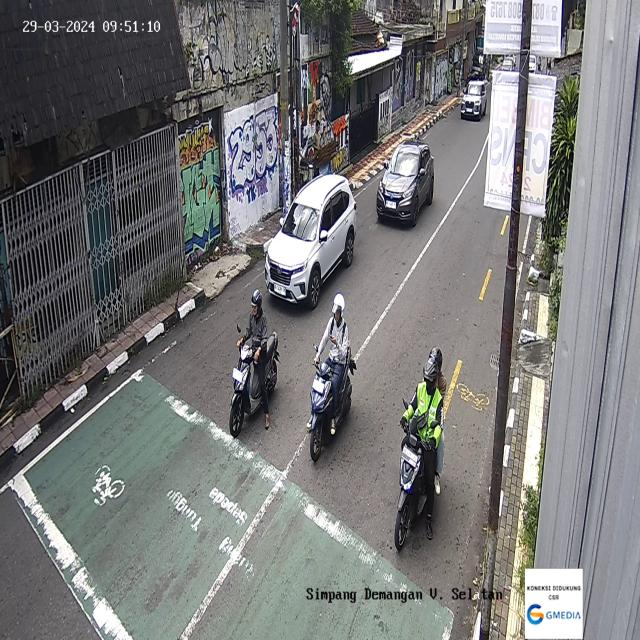car: (264, 172, 357, 310), (376, 138, 434, 228), (460, 79, 487, 121)
motorcycle: (394, 345, 449, 551), (306, 292, 356, 462), (228, 290, 280, 437)
